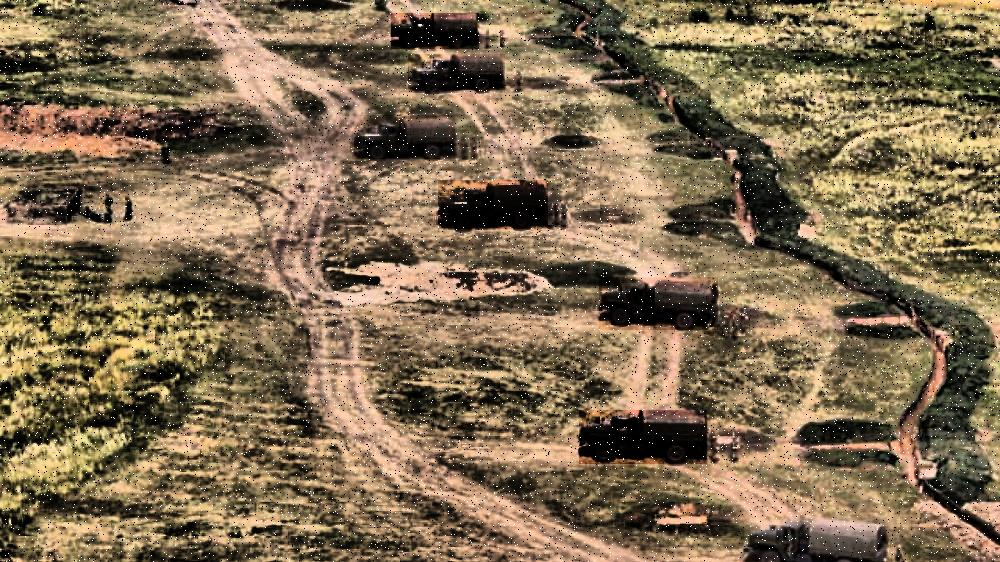military-vehicle: (579, 411, 707, 465), (599, 277, 718, 330), (744, 520, 886, 562), (438, 181, 548, 230), (355, 115, 456, 159), (408, 55, 505, 93), (392, 14, 480, 50)
